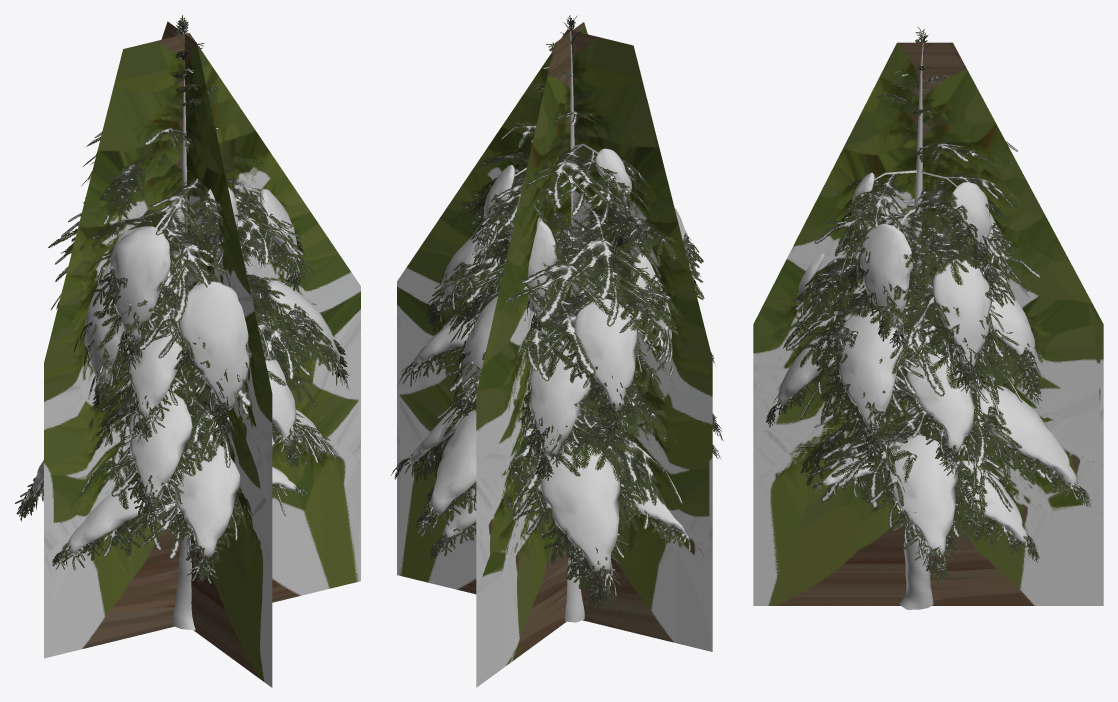
The model's file is Spruce2.fbx.
3 views of the same model, side by side, from view 1: azimuth 30°, elevation 25°; view 2: azimuth 150°, elevation 25°; view 3: azimuth 270°, elevation 25° (orthographic). The views are drawn at different scales.
Visible parts, largest first — view 1: Billboard, LOD0, Branch_snowdrift_7_LOD0, Branch_snowdrift_8_LOD0, Branch_snowdrift_9_LOD0, Branch_snowdrift_3_LOD0; view 2: Billboard, LOD0, Branch_snowdrift_6_LOD0, Branch_snowdrift_4_LOD0, Branch_snowdrift_5_LOD0, Branch_snowdrift_10_LOD0, Branch_snowdrift_7_LOD0, Branch_snowdrift_2_LOD0, Branch_snowdrift_3_LOD0, Branch_snowdrift_1_LOD0; view 3: Billboard, LOD0, Branch_snowdrift_10_LOD0, Branch_snowdrift_9_LOD0, Branch_snowdrift_5_LOD0, Branch_snowdrift_2_LOD0, Branch_snowdrift_8_LOD0, Branch_snowdrift_1_LOD0.
Part boxes in pixels (left/top/right/bottom): Billboard: left=44, top=21, right=360, bottom=687; LOD0: left=15, top=15, right=349, bottom=630; Branch_snowdrift_7_LOD0: left=84, top=226, right=192, bottom=502; Branch_snowdrift_8_LOD0: left=171, top=187, right=296, bottom=557; Branch_snowdrift_9_LOD0: left=260, top=188, right=339, bottom=366; Branch_snowdrift_3_LOD0: left=66, top=478, right=147, bottom=554; Billboard: left=397, top=22, right=712, bottom=687; LOD0: left=391, top=15, right=723, bottom=622; Branch_snowdrift_6_LOD0: left=529, top=298, right=637, bottom=456; Branch_snowdrift_4_LOD0: left=541, top=441, right=620, bottom=575; Branch_snowdrift_5_LOD0: left=430, top=220, right=556, bottom=514; Branch_snowdrift_10_LOD0: left=412, top=164, right=514, bottom=370; Branch_snowdrift_7_LOD0: left=595, top=148, right=691, bottom=340; Branch_snowdrift_2_LOD0: left=410, top=400, right=471, bottom=463; Branch_snowdrift_3_LOD0: left=621, top=486, right=685, bottom=537; Branch_snowdrift_1_LOD0: left=442, top=483, right=476, bottom=540; Billboard: left=753, top=42, right=1103, bottom=605; LOD0: left=766, top=26, right=1091, bottom=609; Branch_snowdrift_10_LOD0: left=907, top=182, right=991, bottom=452; Branch_snowdrift_9_LOD0: left=836, top=224, right=913, bottom=431; Branch_snowdrift_5_LOD0: left=978, top=212, right=1077, bottom=487; Branch_snowdrift_2_LOD0: left=884, top=435, right=957, bottom=555; Branch_snowdrift_8_LOD0: left=777, top=172, right=874, bottom=427; Branch_snowdrift_1_LOD0: left=956, top=460, right=1027, bottom=543.
Size of what is drawn, in the model's own units: 166 by 305 by 167.
